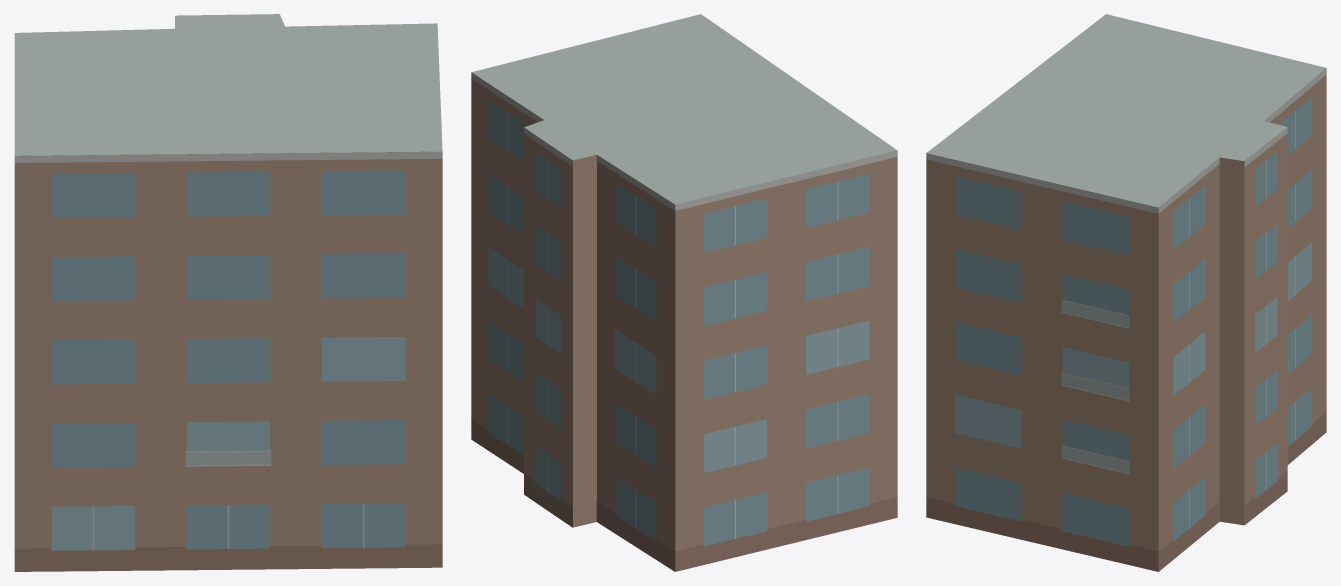
File: survey-upis-32986307.glb
3 renders of one model, left to right at view 1: azimuth 30°, elevation 25°; view 2: azimuth 150°, elevation 25°; view 3: azimuth 270°, elevation 25°, orthographic. The views are drawn at different scales.
Parts seen in each view (by area): view 1: survey-upis-32986307.tmp; view 2: survey-upis-32986307.tmp; view 3: survey-upis-32986307.tmp.
Boxes of the visible parts, left/top/right/bottom form: survey-upis-32986307.tmp: left=14, top=14, right=442, bottom=571; survey-upis-32986307.tmp: left=471, top=14, right=897, bottom=571; survey-upis-32986307.tmp: left=926, top=14, right=1326, bottom=571.
Size of the model in its own units: 16.08 by 14.1 by 14.05.
